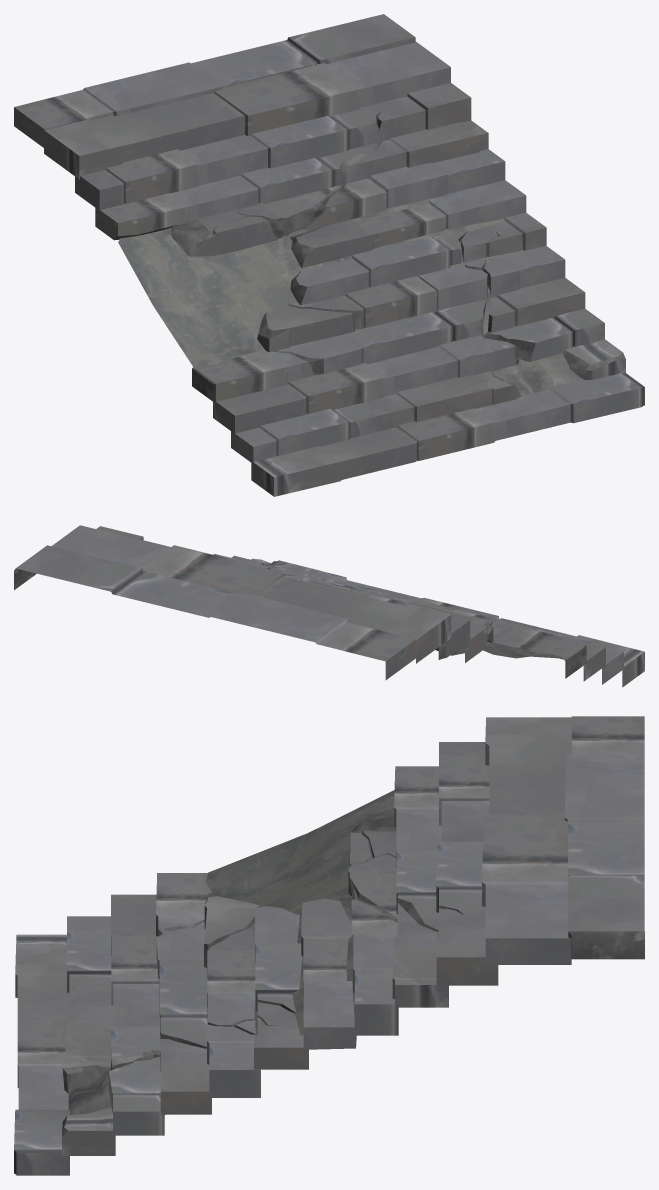
The model's file is SM_Alt_Sta_02AM.fbx.
The picture shows the model from 3 angles, top to bottom: view 1: azimuth 30°, elevation 25°; view 2: azimuth 150°, elevation 25°; view 3: azimuth 270°, elevation 25°; orthographic projection. The views are drawn at different scales.
Parts seen in each view (by area): view 1: SM_Alt_Sta_02AM.mo; view 2: SM_Alt_Sta_02AM.mo; view 3: SM_Alt_Sta_02AM.mo.
Boxes of the visible parts, <box> form: SM_Alt_Sta_02AM.mo: <box>14,14,644,496</box>; SM_Alt_Sta_02AM.mo: <box>14,525,644,687</box>; SM_Alt_Sta_02AM.mo: <box>14,716,644,1175</box>.
Bounding box in the file's own units: 6.14 × 3.19 × 7.45.
